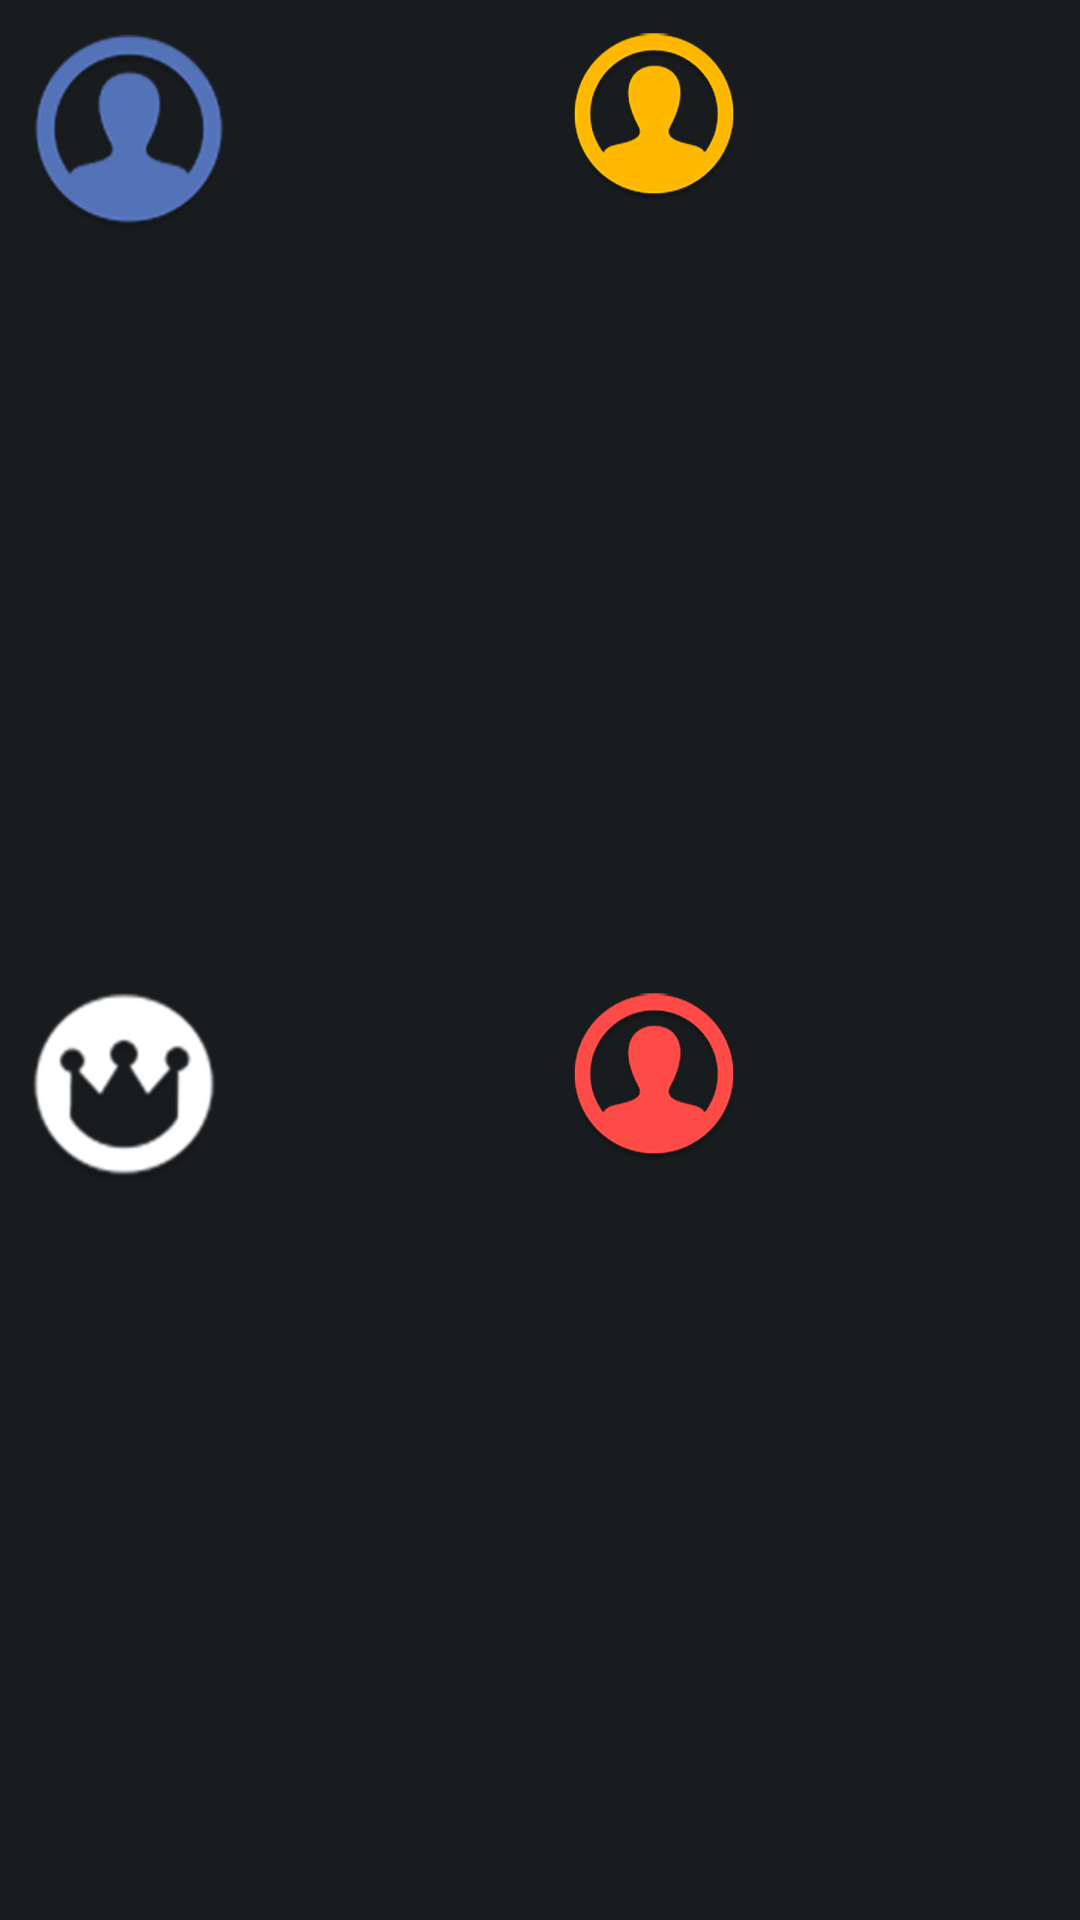

Icon bounding boxes for this 1080×1920 phone screenshot, format (x1,y1,x2,y2):
guest: (574,33,734,194), (574,993,734,1154)
winner: (34,993,214,1175)
